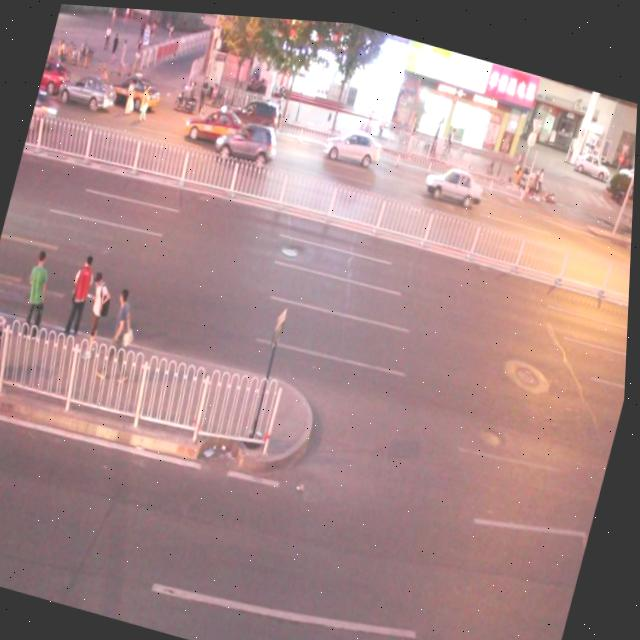car: (212, 107, 283, 169), (421, 151, 489, 205), (320, 116, 387, 168), (184, 97, 250, 148), (57, 65, 122, 115), (224, 87, 285, 140), (107, 65, 164, 112), (39, 53, 76, 98)
